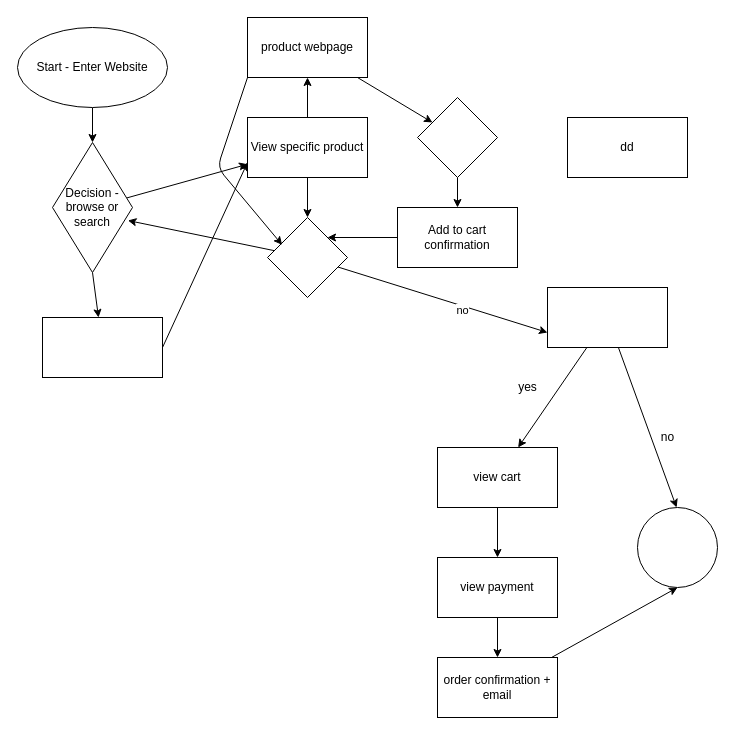
The diagram is 735 pixels wide and 735 high, and some of its shapes have lost their labels. The box of each missing label's shape, as (x1, y1, x2, y2) in pixels:
Add to cart: (416, 96, 498, 178)
checkout: (546, 286, 668, 348)
Continue shopping: (266, 216, 348, 298)
Leave Website: (636, 506, 718, 588)
Search for item: (42, 316, 162, 378)
